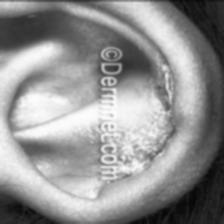Non-Cancerous Skin Condition: (124, 59, 202, 175)
